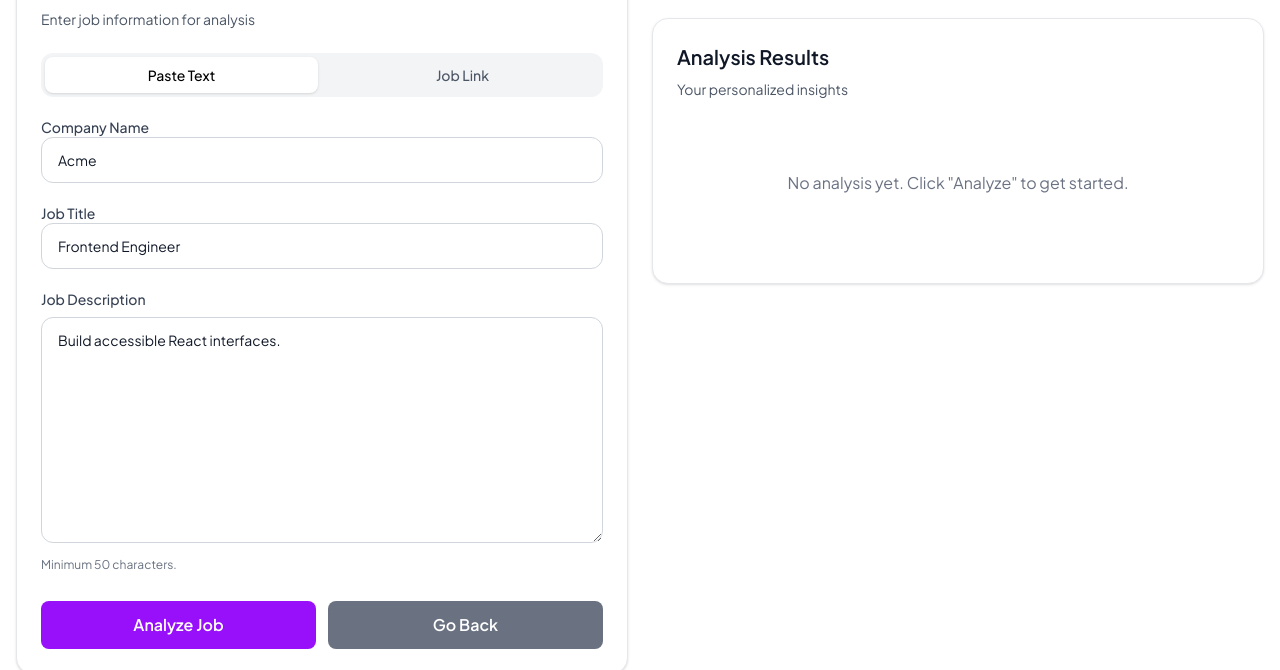
Test: JobAnalysisLayout › keeps the analysis panel expanded when analysis fails
(page scrolled)
Click the button with aria-label "Analyze job description" at (178, 625), box [41, 601, 316, 649]
(page scrolled)
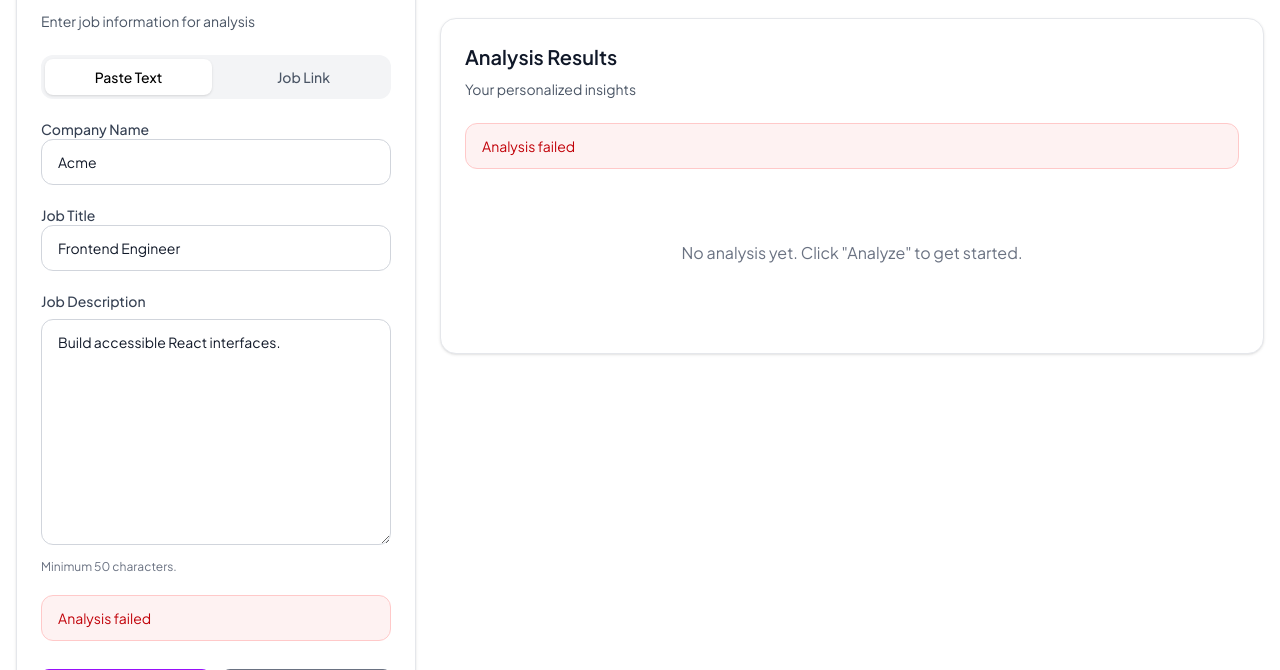
Now the number of messages is 2, box [41, 595, 391, 641]; [465, 123, 1239, 169]
